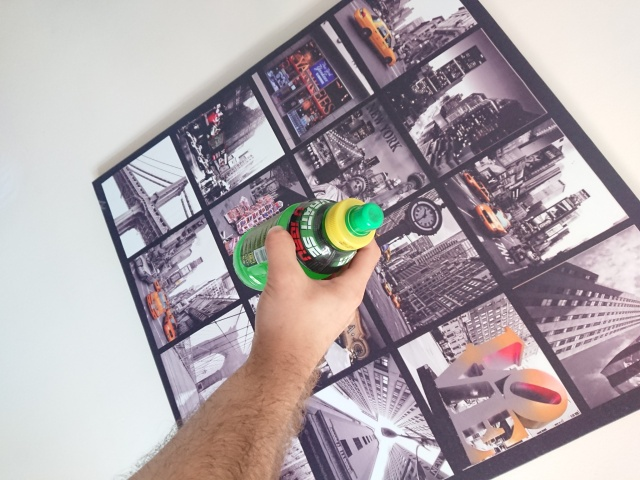Vindi Iso Sport Lemon-Grapefruit 500mL: (230, 195, 387, 294)
